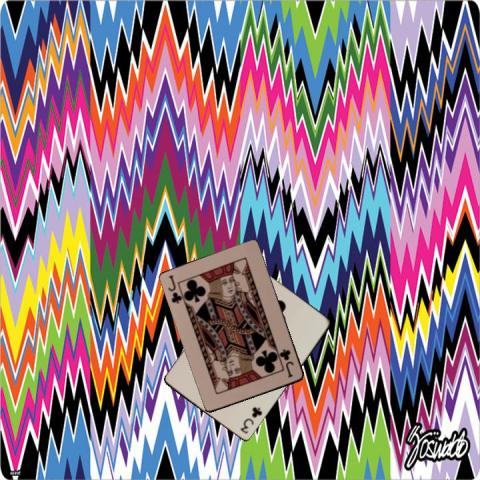3c: (237, 404, 264, 435)
Jc: (165, 272, 183, 305), (278, 346, 295, 379)
